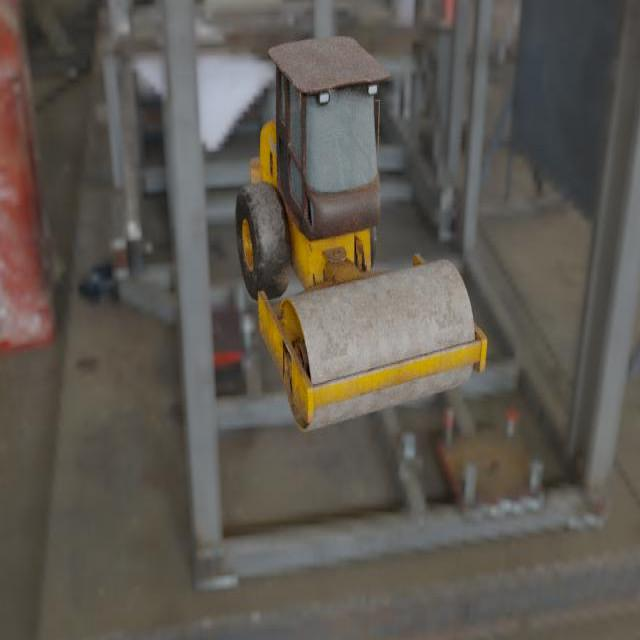Roller: (234, 35, 487, 432)
